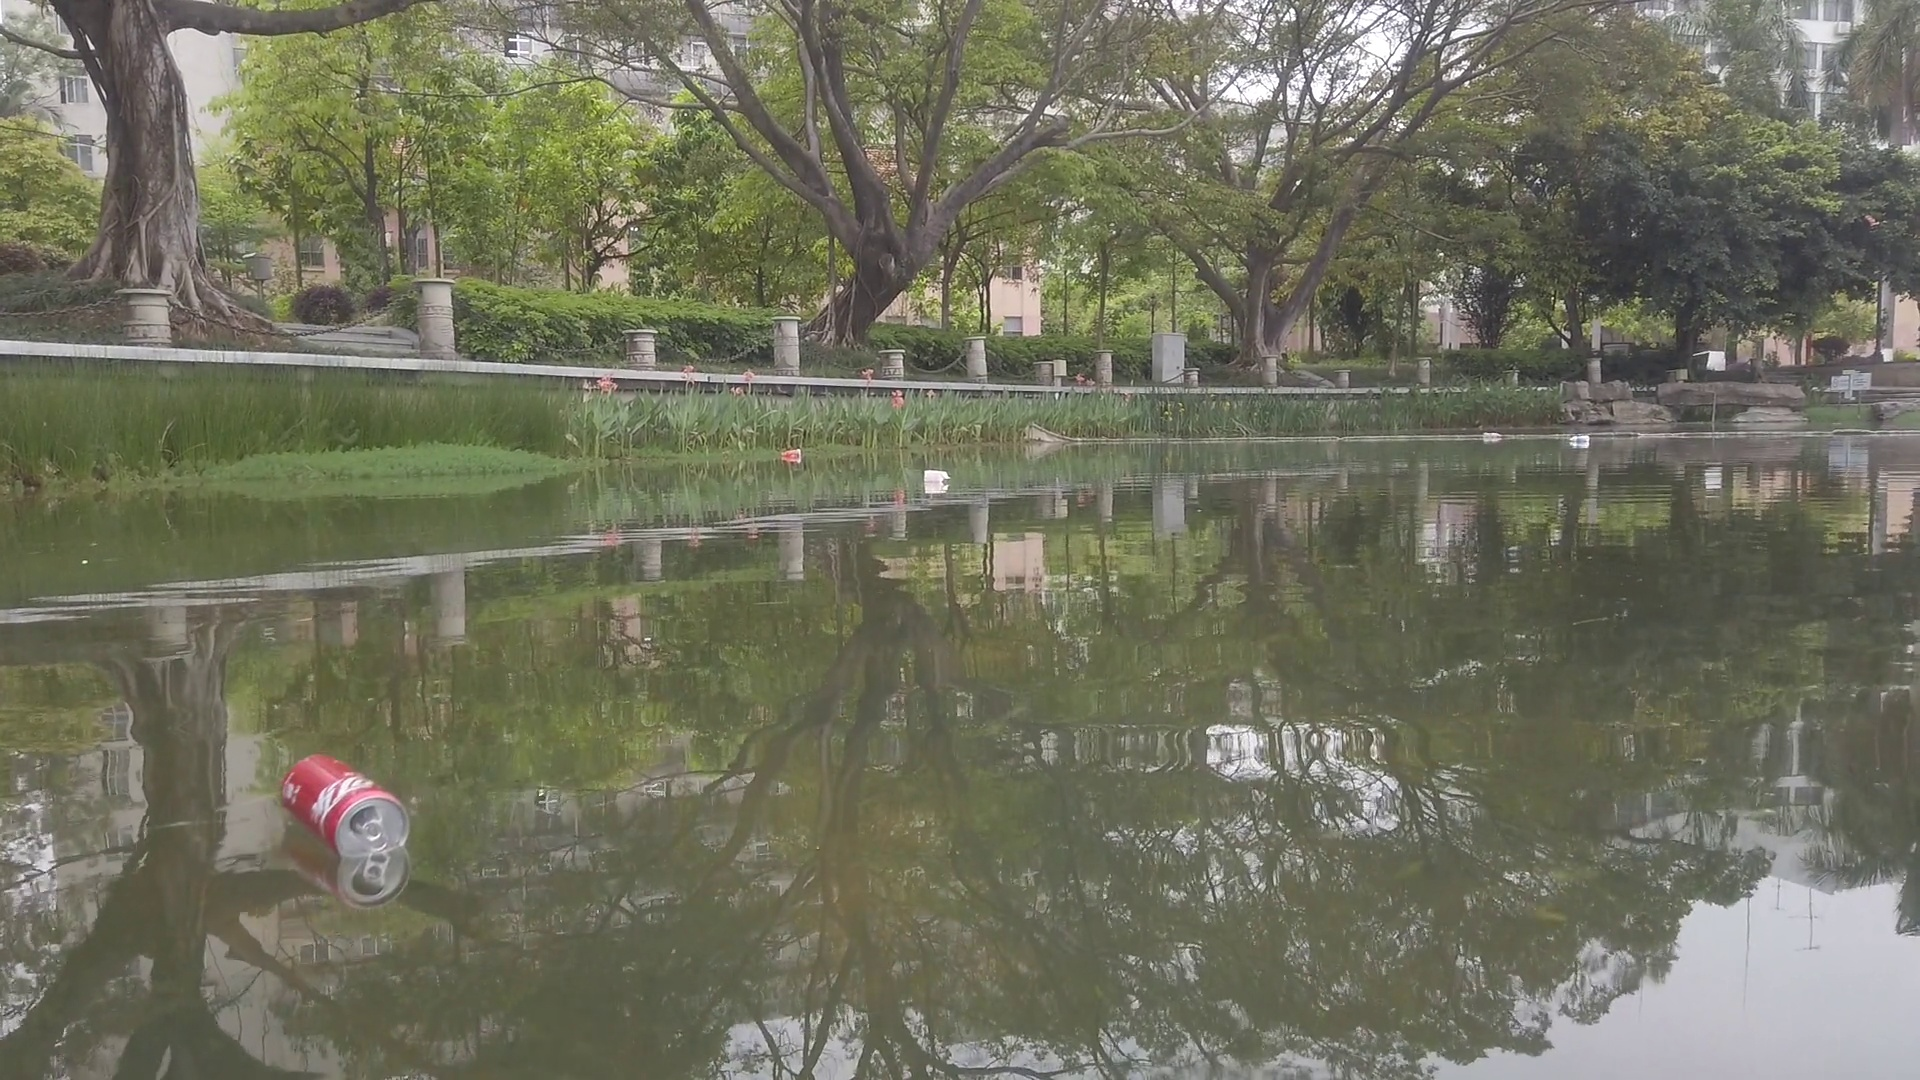bottle: (272, 746, 411, 861), (1481, 430, 1505, 440), (781, 451, 803, 462), (1571, 436, 1590, 447)
carton: (924, 471, 951, 488)
